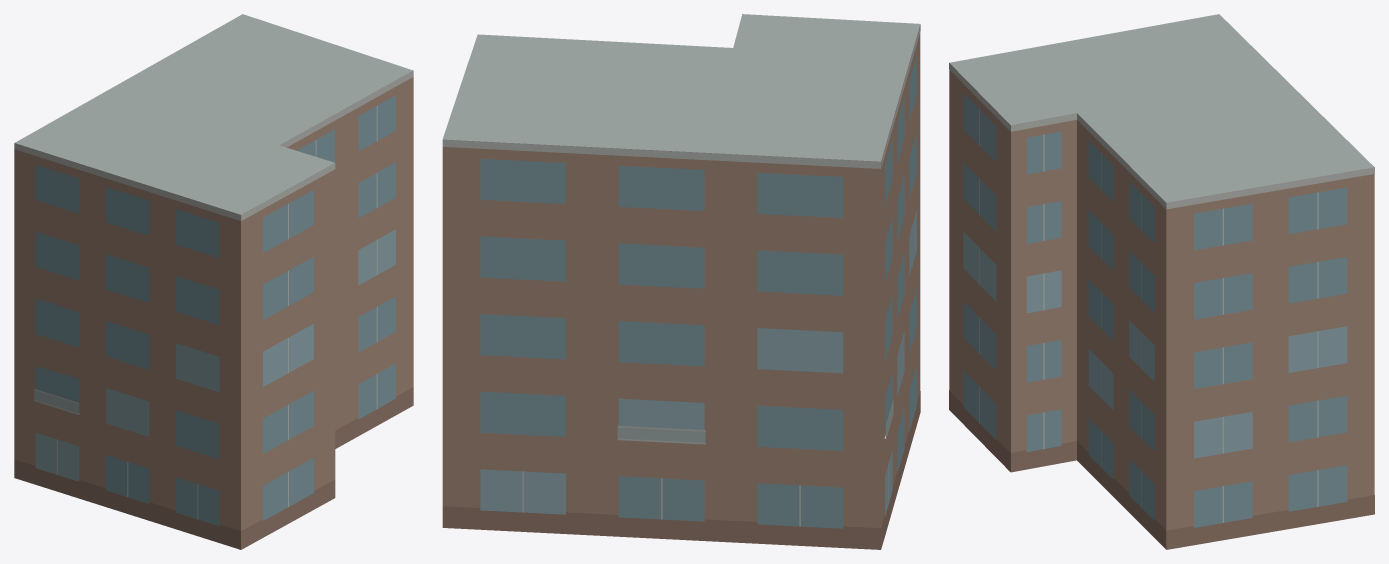
The model's file is survey-upis-32944723.glb.
The picture shows the model from 3 angles, left to right: view 1: azimuth 30°, elevation 25°; view 2: azimuth 150°, elevation 25°; view 3: azimuth 270°, elevation 25°; orthographic projection. The views are drawn at different scales.
Visible parts, largest first — view 1: survey-upis-32944723.tmp; view 2: survey-upis-32944723.tmp; view 3: survey-upis-32944723.tmp.
Boxes of the visible parts, x1,y1,x2,y2 form: survey-upis-32944723.tmp: [14, 14, 413, 549]; survey-upis-32944723.tmp: [442, 14, 920, 549]; survey-upis-32944723.tmp: [949, 14, 1374, 549].
Size of the model in its own units: 15.18 by 13 by 14.46.
